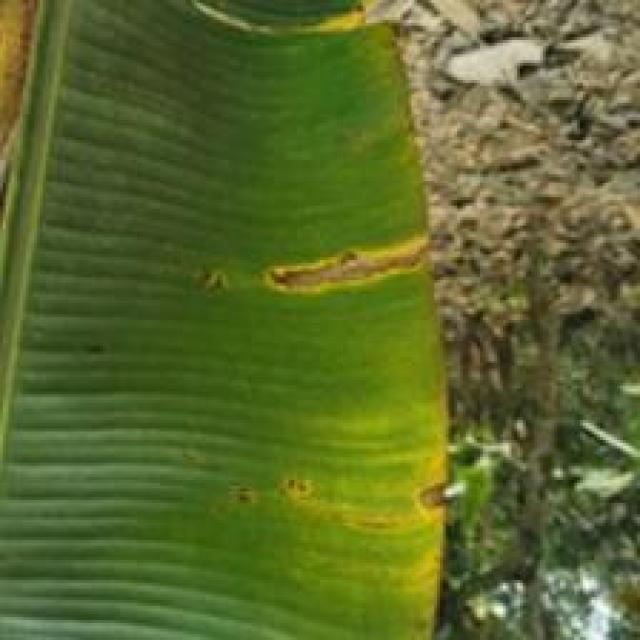Downey_mildrew: (209, 0, 465, 640)
